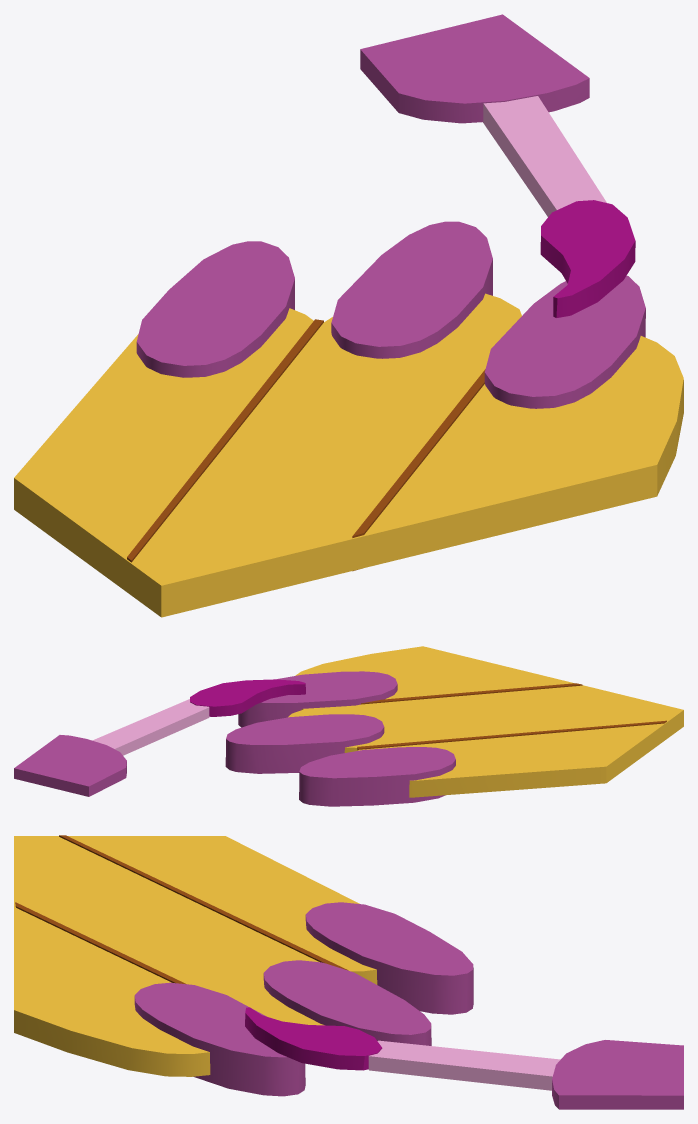
Rendered from IconStyledComponents.glb.
The picture shows the model from 3 angles, top to bottom: view 1: azimuth 30°, elevation 25°; view 2: azimuth 150°, elevation 25°; view 3: azimuth 270°, elevation 25°; orthographic projection. The views are drawn at different scales.
Parts seen in each view (by area): view 1: IconStyledComponents; view 2: IconStyledComponents; view 3: IconStyledComponents.
Boxes of the visible parts, x1,y1,x2,y2 form: IconStyledComponents: (14, 14, 683, 617); IconStyledComponents: (14, 646, 683, 806); IconStyledComponents: (14, 835, 683, 1109).
Bounding box in the file's own units: 2.06 × 0.1841 × 2.06.
